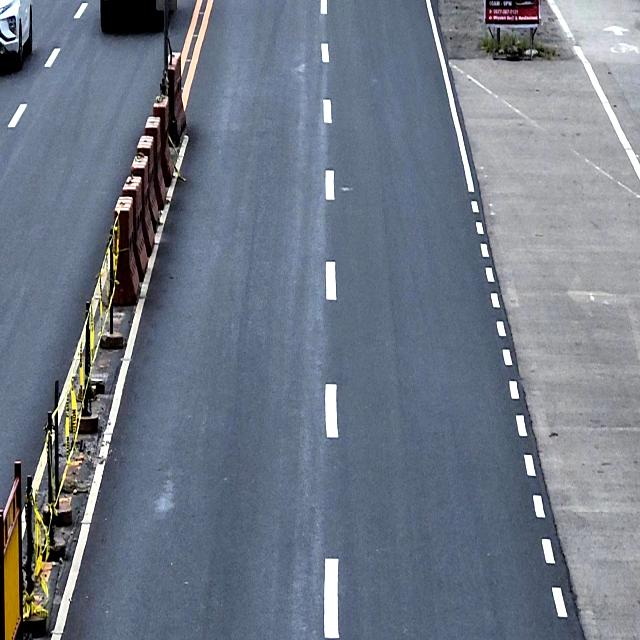Car: (0, 0, 33, 68)
